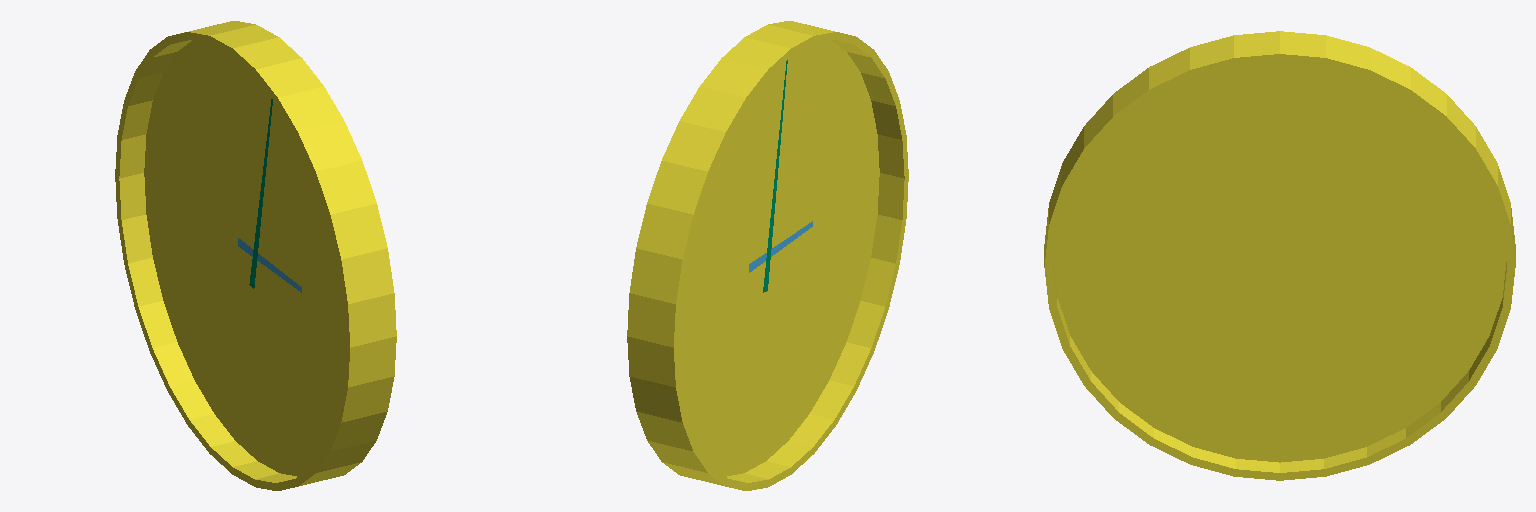
URDF robot description (partnet_330f2677d7ba810ed527a9a6f5a872b9):
<?xml version="1.0" ?>
<robot name="partnet_330f2677d7ba810ed527a9a6f5a872b9">
	<link name="base"/>
	<link name="link_0">
		<visual name="hand-4">
			<origin xyz="0.018853500000000023 -0.037826000000000026 0"/>
			<geometry>
				<mesh filename="package://objects_description/clock/textured_objs/original-15.obj"/>
			</geometry>
		</visual>
		<collision>
			<origin xyz="0.018853500000000023 -0.037826000000000026 0"/>
			<geometry>
				<mesh filename="package://objects_description/clock/textured_objs/original-15.obj"/>
			</geometry>
		</collision>
	</link>
	<joint name="joint_0" type="continuous">
		<origin xyz="-0.018853500000000023 0.037826000000000026 0"/>
		<axis xyz="0 0 1"/>
		<child link="link_0"/>
		<parent link="link_2"/>
	</joint>
	<link name="link_1">
		<visual name="hand-5">
			<origin xyz="0.018853500000000023 -0.037826000000000026 0"/>
			<geometry>
				<mesh filename="package://objects_description/clock/textured_objs/original-14.obj"/>
			</geometry>
		</visual>
		<collision>
			<origin xyz="0.018853500000000023 -0.037826000000000026 0"/>
			<geometry>
				<mesh filename="package://objects_description/clock/textured_objs/original-14.obj"/>
			</geometry>
		</collision>
	</link>
	<joint name="joint_1" type="continuous">
		<origin xyz="-0.018853500000000023 0.037826000000000026 0"/>
		<axis xyz="0 0 1"/>
		<child link="link_1"/>
		<parent link="link_2"/>
	</joint>
	<link name="link_2">
		<visual name="frame-3">
			<origin xyz="0 0 0"/>
			<geometry>
				<mesh filename="package://objects_description/clock/textured_objs/original-17.obj"/>
			</geometry>
		</visual>
		<visual name="surface-6">
			<origin xyz="0 0 0"/>
			<geometry>
				<mesh filename="package://objects_description/clock/textured_objs/original-5.obj"/>
			</geometry>
		</visual>
		<visual name="surface-6">
			<origin xyz="0 0 0"/>
			<geometry>
				<mesh filename="package://objects_description/clock/textured_objs/original-12.obj"/>
			</geometry>
		</visual>
		<visual name="surface-6">
			<origin xyz="0 0 0"/>
			<geometry>
				<mesh filename="package://objects_description/clock/textured_objs/original-13.obj"/>
			</geometry>
		</visual>
		<visual name="surface-6">
			<origin xyz="0 0 0"/>
			<geometry>
				<mesh filename="package://objects_description/clock/textured_objs/original-16.obj"/>
			</geometry>
		</visual>
		<visual name="surface-6">
			<origin xyz="0 0 0"/>
			<geometry>
				<mesh filename="package://objects_description/clock/textured_objs/original-6.obj"/>
			</geometry>
		</visual>
		<visual name="surface-6">
			<origin xyz="0 0 0"/>
			<geometry>
				<mesh filename="package://objects_description/clock/textured_objs/original-7.obj"/>
			</geometry>
		</visual>
		<visual name="surface-6">
			<origin xyz="0 0 0"/>
			<geometry>
				<mesh filename="package://objects_description/clock/textured_objs/original-3.obj"/>
			</geometry>
		</visual>
		<visual name="surface-6">
			<origin xyz="0 0 0"/>
			<geometry>
				<mesh filename="package://objects_description/clock/textured_objs/original-8.obj"/>
			</geometry>
		</visual>
		<visual name="surface-6">
			<origin xyz="0 0 0"/>
			<geometry>
				<mesh filename="package://objects_description/clock/textured_objs/original-1.obj"/>
			</geometry>
		</visual>
		<visual name="surface-6">
			<origin xyz="0 0 0"/>
			<geometry>
				<mesh filename="package://objects_description/clock/textured_objs/original-9.obj"/>
			</geometry>
		</visual>
		<visual name="surface-6">
			<origin xyz="0 0 0"/>
			<geometry>
				<mesh filename="package://objects_description/clock/textured_objs/original-4.obj"/>
			</geometry>
		</visual>
		<visual name="surface-6">
			<origin xyz="0 0 0"/>
			<geometry>
				<mesh filename="package://objects_description/clock/textured_objs/original-10.obj"/>
			</geometry>
		</visual>
		<visual name="surface-6">
			<origin xyz="0 0 0"/>
			<geometry>
				<mesh filename="package://objects_description/clock/textured_objs/original-11.obj"/>
			</geometry>
		</visual>
		<collision>
			<origin xyz="0 0 0"/>
			<geometry>
				<mesh filename="package://objects_description/clock/textured_objs/original-17.obj"/>
			</geometry>
		</collision>
		<collision>
			<origin xyz="0 0 0"/>
			<geometry>
				<mesh filename="package://objects_description/clock/textured_objs/original-5.obj"/>
			</geometry>
		</collision>
		<collision>
			<origin xyz="0 0 0"/>
			<geometry>
				<mesh filename="package://objects_description/clock/textured_objs/original-12.obj"/>
			</geometry>
		</collision>
		<collision>
			<origin xyz="0 0 0"/>
			<geometry>
				<mesh filename="package://objects_description/clock/textured_objs/original-13.obj"/>
			</geometry>
		</collision>
		<collision>
			<origin xyz="0 0 0"/>
			<geometry>
				<mesh filename="package://objects_description/clock/textured_objs/original-16.obj"/>
			</geometry>
		</collision>
		<collision>
			<origin xyz="0 0 0"/>
			<geometry>
				<mesh filename="package://objects_description/clock/textured_objs/original-6.obj"/>
			</geometry>
		</collision>
		<collision>
			<origin xyz="0 0 0"/>
			<geometry>
				<mesh filename="package://objects_description/clock/textured_objs/original-7.obj"/>
			</geometry>
		</collision>
		<collision>
			<origin xyz="0 0 0"/>
			<geometry>
				<mesh filename="package://objects_description/clock/textured_objs/original-3.obj"/>
			</geometry>
		</collision>
		<collision>
			<origin xyz="0 0 0"/>
			<geometry>
				<mesh filename="package://objects_description/clock/textured_objs/original-8.obj"/>
			</geometry>
		</collision>
		<collision>
			<origin xyz="0 0 0"/>
			<geometry>
				<mesh filename="package://objects_description/clock/textured_objs/original-1.obj"/>
			</geometry>
		</collision>
		<collision>
			<origin xyz="0 0 0"/>
			<geometry>
				<mesh filename="package://objects_description/clock/textured_objs/original-9.obj"/>
			</geometry>
		</collision>
		<collision>
			<origin xyz="0 0 0"/>
			<geometry>
				<mesh filename="package://objects_description/clock/textured_objs/original-4.obj"/>
			</geometry>
		</collision>
		<collision>
			<origin xyz="0 0 0"/>
			<geometry>
				<mesh filename="package://objects_description/clock/textured_objs/original-10.obj"/>
			</geometry>
		</collision>
		<collision>
			<origin xyz="0 0 0"/>
			<geometry>
				<mesh filename="package://objects_description/clock/textured_objs/original-11.obj"/>
			</geometry>
		</collision>
	</link>
	<joint name="joint_2" type="fixed">
		<origin rpy="1.570796326794897 0 -1.570796326794897" xyz="0 0 0"/>
		<child link="link_2"/>
		<parent link="base"/>
	</joint>
</robot>

--- Facts derived from the render (not from the file) ---
3 views of the same robot in one strip: view 1: azimuth 30°, elevation 25°; view 2: azimuth 150°, elevation 25°; view 3: azimuth 270°, elevation 25° (orthographic).
Model partnet_330f2677d7ba810ed527a9a6f5a872b9 with 4 links and 3 joints (2 continuous, 1 fixed), rooted at base, posed all joints at 0.
Links seen in each view (by area): view 1: link_2, link_1; view 2: link_2, link_1; view 3: link_2.
Boxes of the visible links, bbox=[...] form: link_2: bbox=[115, 21, 396, 490]; link_1: bbox=[249, 99, 272, 288]; link_2: bbox=[627, 21, 908, 490]; link_1: bbox=[763, 60, 787, 292]; link_2: bbox=[1044, 31, 1515, 480].
Bounding box of the posed robot: 0.2183 × 1.91 × 1.91 m (x, y, z).
16 mesh visuals loaded from 16 distinct referenced files (16 OBJ).